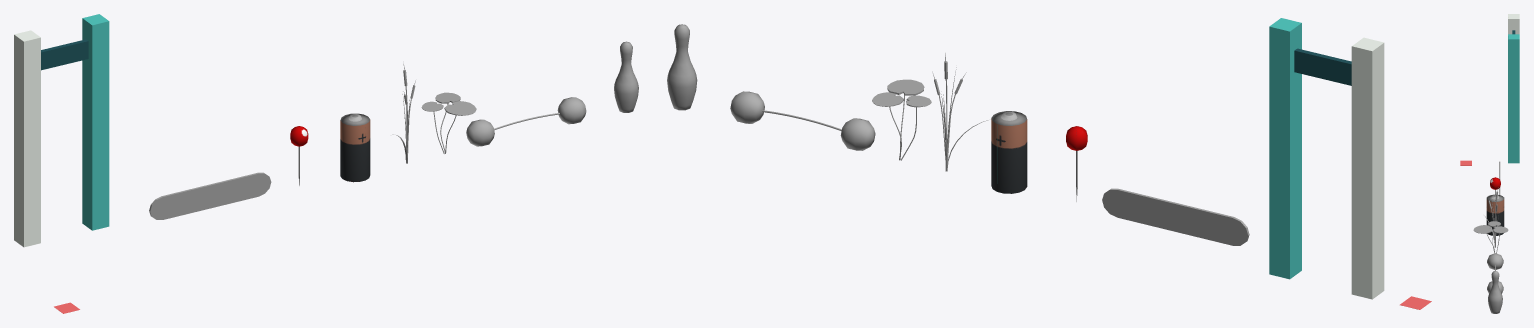
The model's file is prp_population BAK_02.fbx.
The picture shows the model from 3 angles, left to right: view 1: azimuth 30°, elevation 25°; view 2: azimuth 150°, elevation 25°; view 3: azimuth 270°, elevation 25°; orthographic projection. The views are drawn at different scales.
Visible parts, largest first — view 1: prpPortal, prp_cardboard, prp_battery, prp_Weights, prp_bowlingPin, prp_lilly, prp_reed; view 2: prpPortal, prp_cardboard, prp_battery, prp_Weights, prp_bowlingPin, prp_lilly, prp_reed, prp_pin; view 3: prpPortal, prp_battery, prp_bowlingPin, prp_lilly, prp_Weights, prp_reed, prp_pin.
Part boxes in pixels (x1=…): prpPortal: x1=14, y1=14, x2=109, y2=313; prp_cardboard: x1=149, y1=172, x2=271, y2=219; prp_battery: x1=340, y1=113, x2=370, y2=182; prp_Weights: x1=466, y1=97, x2=586, y2=146; prp_bowlingPin: x1=614, y1=41, x2=638, y2=112; prp_lilly: x1=421, y1=92, x2=476, y2=153; prp_reed: x1=392, y1=63, x2=415, y2=163; prpPortal: x1=1269, y1=18, x2=1431, y2=309; prp_cardboard: x1=1102, y1=188, x2=1249, y2=245; prp_battery: x1=991, y1=111, x2=1027, y2=193; prp_Weights: x1=730, y1=91, x2=875, y2=150; prp_bowlingPin: x1=667, y1=24, x2=697, y2=110; prp_lilly: x1=872, y1=79, x2=931, y2=160; prp_reed: x1=932, y1=53, x2=988, y2=171; prp_pin: x1=1066, y1=126, x2=1087, y2=201; prpPortal: x1=1460, y1=14, x2=1519, y2=165; prp_battery: x1=1486, y1=194, x2=1504, y2=235; prp_bowlingPin: x1=1488, y1=271, x2=1502, y2=313; prp_lilly: x1=1473, y1=221, x2=1508, y2=253; prp_Weights: x1=1487, y1=253, x2=1503, y2=293; prp_reed: x1=1484, y1=187, x2=1499, y2=247; prp_pin: x1=1490, y1=177, x2=1500, y2=194.
Bounding box in the file's own units: 5606 × 2163 × 795.
